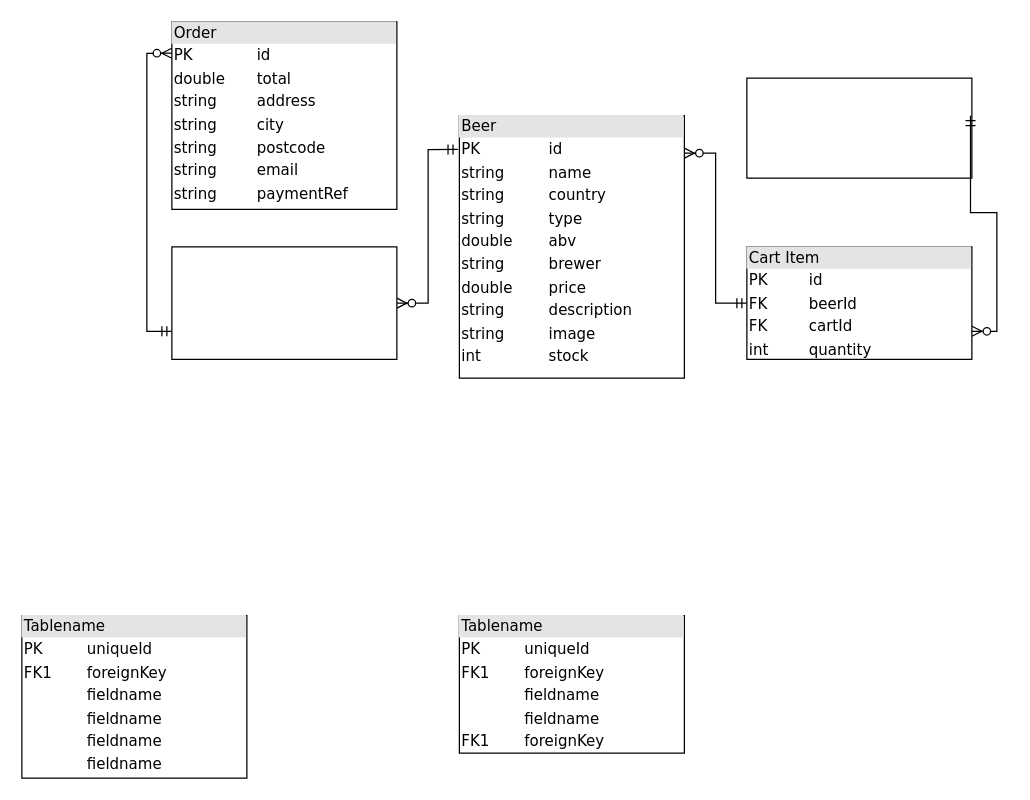
The diagram is 1030 pixels wide and 800 high, and some of its shapes have lost their labels. The centre of each missing label's shape, as x and y in pixels:
"Cart PK id string session double total" goes at point (859, 127).
"OrderItem PK id FK beerId FK orderId int quantity" goes at point (284, 302).
